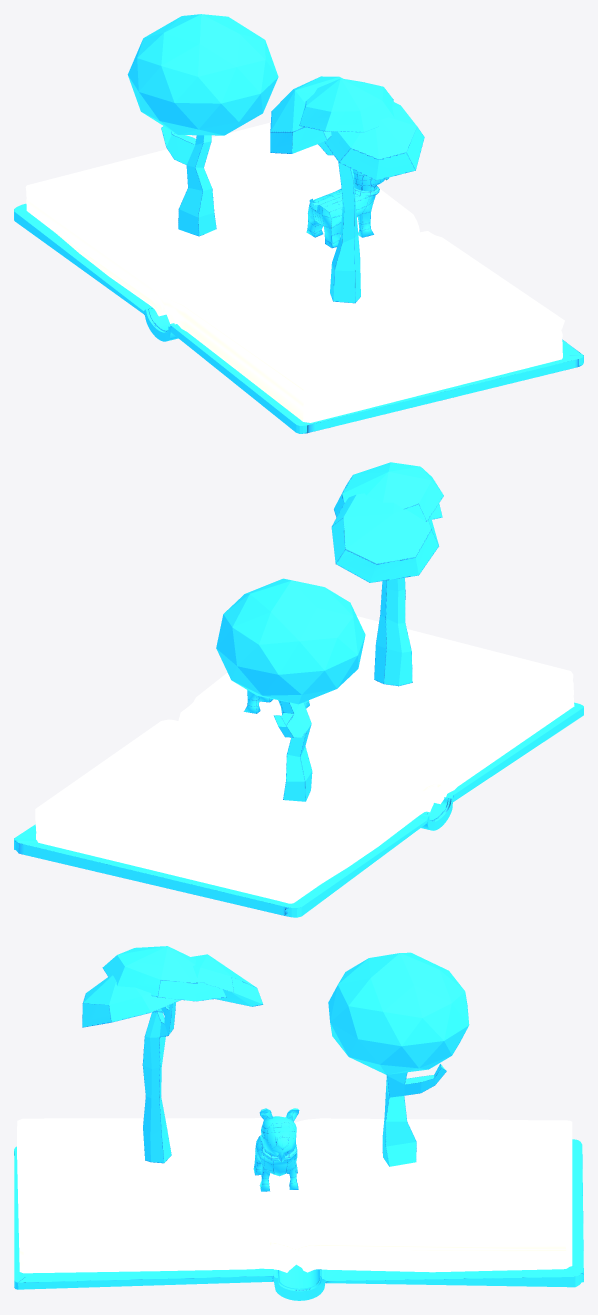
The model's file is art papers.glb.
3 views of the same model, one above another, from view 1: azimuth 30°, elevation 25°; view 2: azimuth 150°, elevation 25°; view 3: azimuth 270°, elevation 25° (orthographic).
Parts seen in each view (by area): view 1: Cube.001, Icosphere.001, Cube.027_Cube.003, Cube.003, dog_Cube.004; view 2: Cube.001, Icosphere.001, Cube.027_Cube.003, Cube.003; view 3: Cube.001, Icosphere.001, Cube.027_Cube.003, Cube.003, dog_Cube.004.
Boxes of the visible parts, x1,y1,x2,y2 form: Cube.001: [25, 122, 564, 422]; Icosphere.001: [127, 14, 278, 236]; Cube.027_Cube.003: [270, 76, 424, 303]; Cube.003: [14, 203, 583, 433]; dog_Cube.004: [306, 169, 389, 248]; Cube.001: [35, 616, 574, 903]; Icosphere.001: [216, 578, 365, 801]; Cube.027_Cube.003: [331, 462, 443, 686]; Cube.003: [14, 702, 583, 917]; Cube.001: [17, 1118, 572, 1273]; Icosphere.001: [328, 952, 469, 1166]; Cube.027_Cube.003: [82, 946, 263, 1163]; Cube.003: [14, 1139, 583, 1300]; dog_Cube.004: [253, 1108, 299, 1191].
Size of the model in its own units: 2.89 by 2.73 by 5.06.
7 materials, 6 textured.
